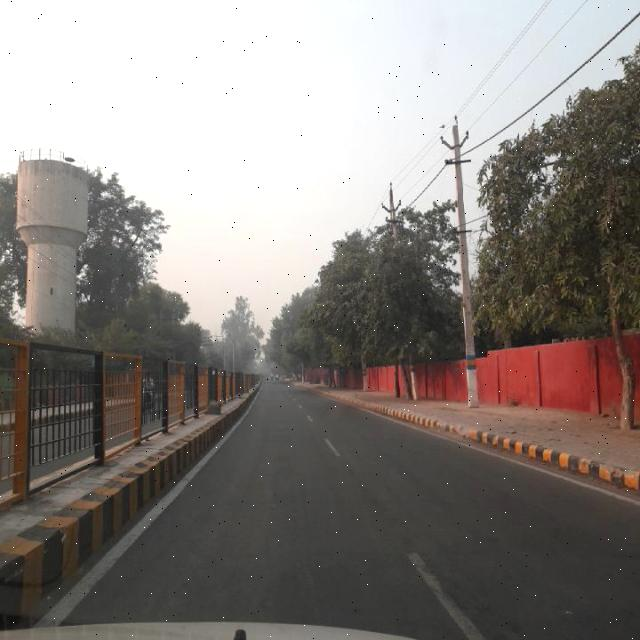D44: (411, 549, 496, 639)
